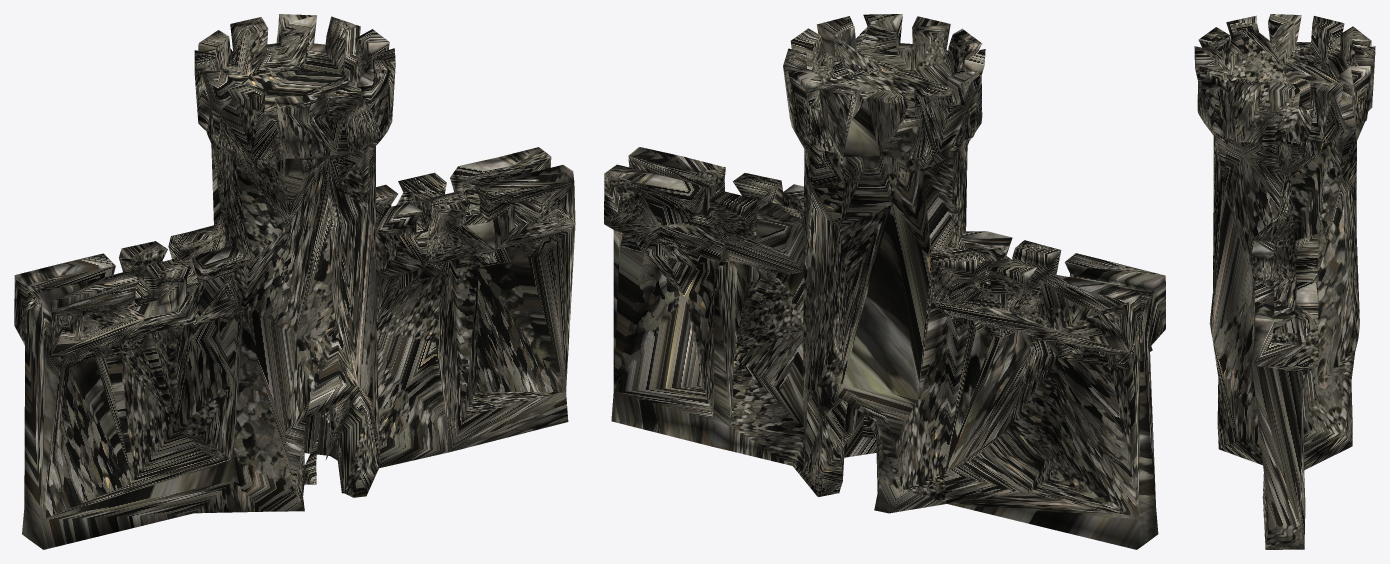
The model's file is gt_castle.glb.
3 views of the same model, side by side, from view 1: azimuth 30°, elevation 25°; view 2: azimuth 150°, elevation 25°; view 3: azimuth 270°, elevation 25° (orthographic). The views are drawn at different scales.
Parts seen in each view (by area): view 1: gt_castle; view 2: gt_castle; view 3: gt_castle.
Boxes of the visible parts, bbox=[...] form: gt_castle: bbox=[14, 14, 575, 549]; gt_castle: bbox=[604, 14, 1165, 549]; gt_castle: bbox=[1194, 14, 1375, 549].
Bounding box in the file's own units: 1.9 × 1.46 × 0.6273.
1 material, 1 textured.
